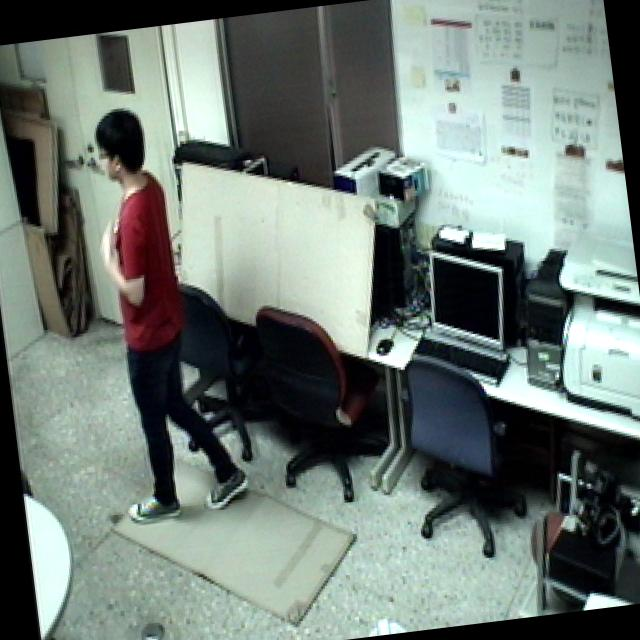stand: (64, 96, 263, 542)
